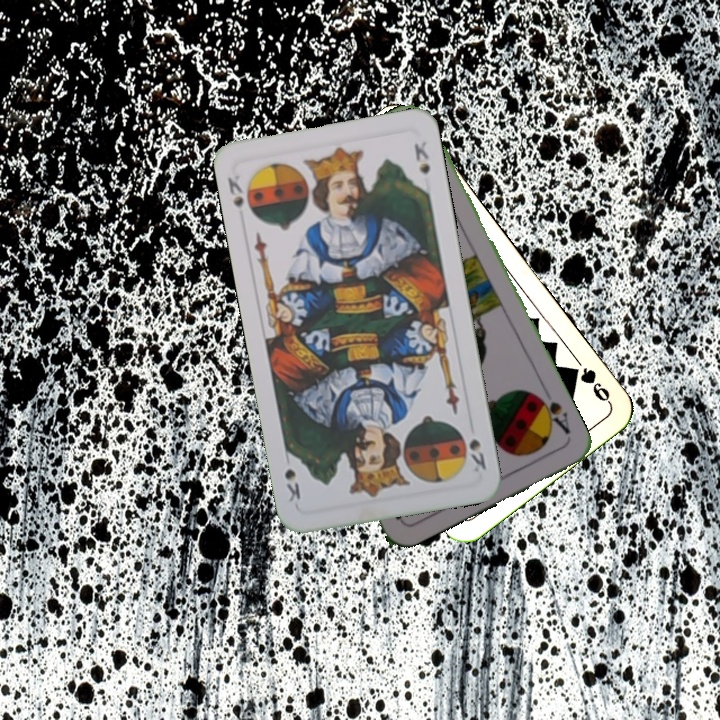G9: (564, 363, 614, 407)
SA: (531, 390, 573, 437)
SK: (465, 434, 489, 476), (223, 171, 246, 212)
